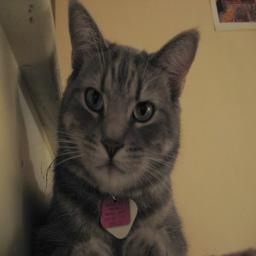catnose: (100, 134, 127, 161)
